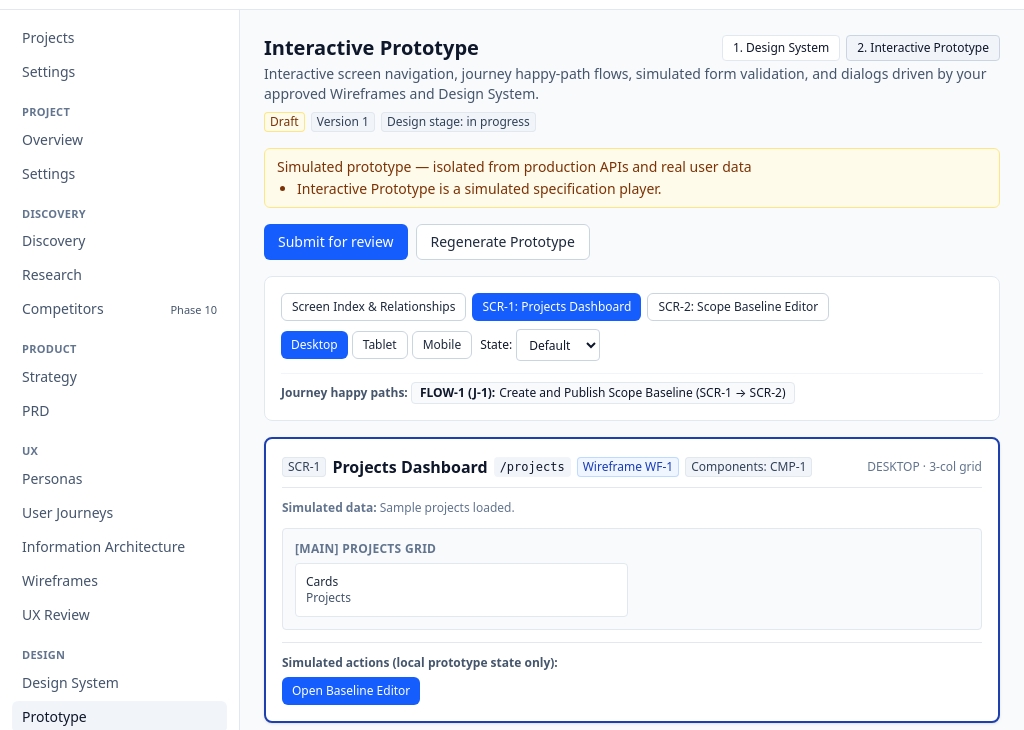
Test: Phase 12 Design System & Interactive Prototype › renders interactive prototype screen navigation, form validation, simulated dialogs, and screen index
Expected: the element with test id "proto-screen-SCR-1" is shown, [264,437,1000,723]
# Navigate from SCR-1 to SCR-2 via interactive trigger button
Click the button "Open Baseline Editor" at (351, 691), box [282,677,420,705]
(page scrolled)
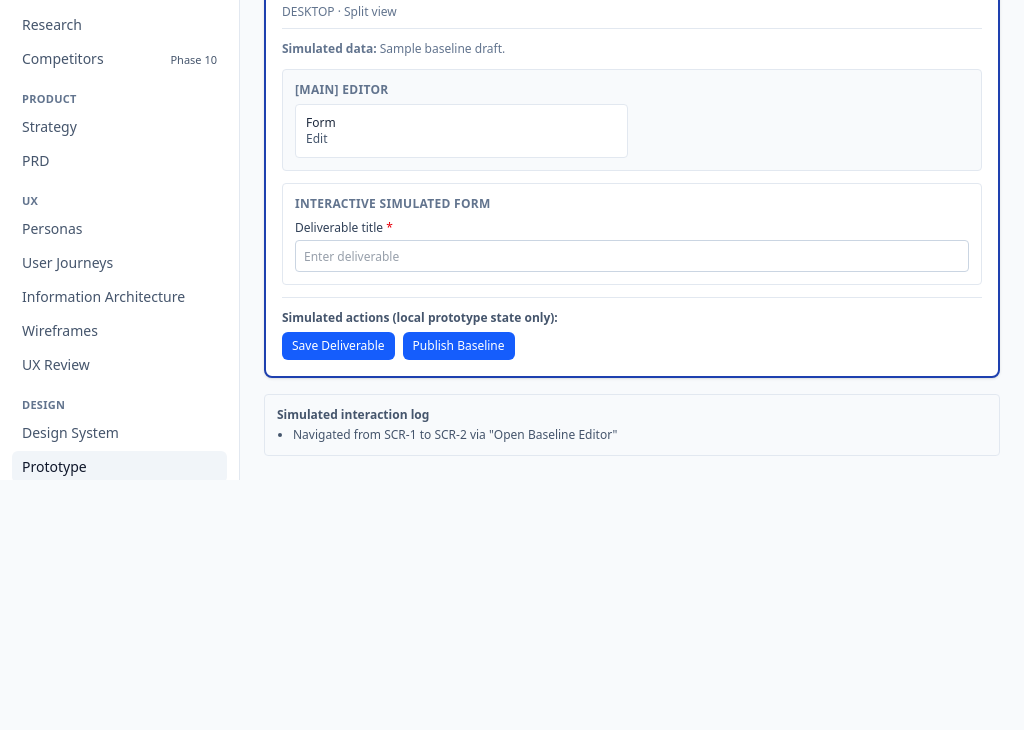
# Submitting empty required form field shows inline validation error
Click the button "Save Deliverable" at (338, 346), box [282,332,395,360]
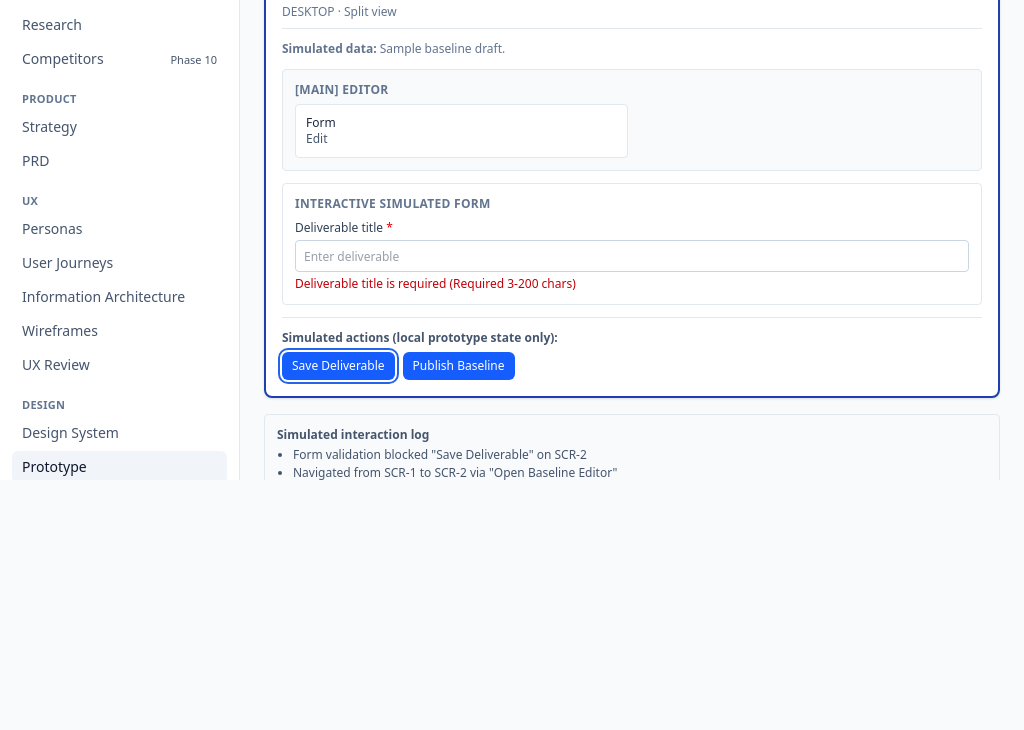
Expected: the message shows "Deliverable title is required", [295,275,576,292]
# Typing a value and submitting transitions to simulated success state
Type "Homepage design" into the field labelled "Deliverable title *" at (632, 256), box [295,240,969,272]
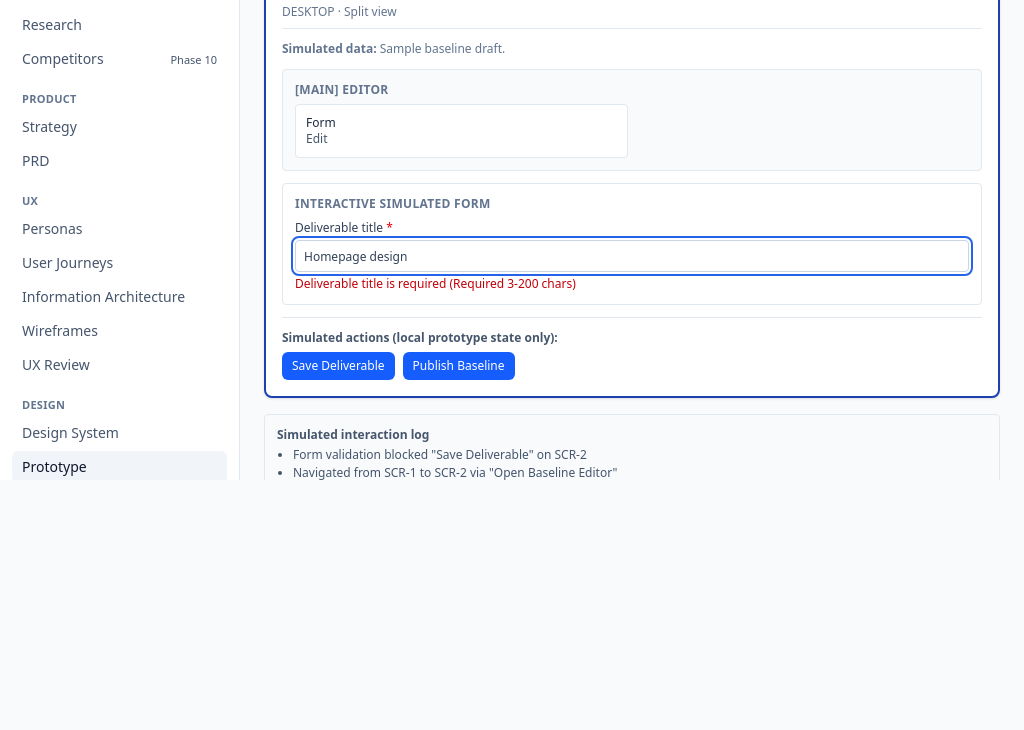
Click the button "Save Deliverable" at (338, 366), box [282,352,395,380]
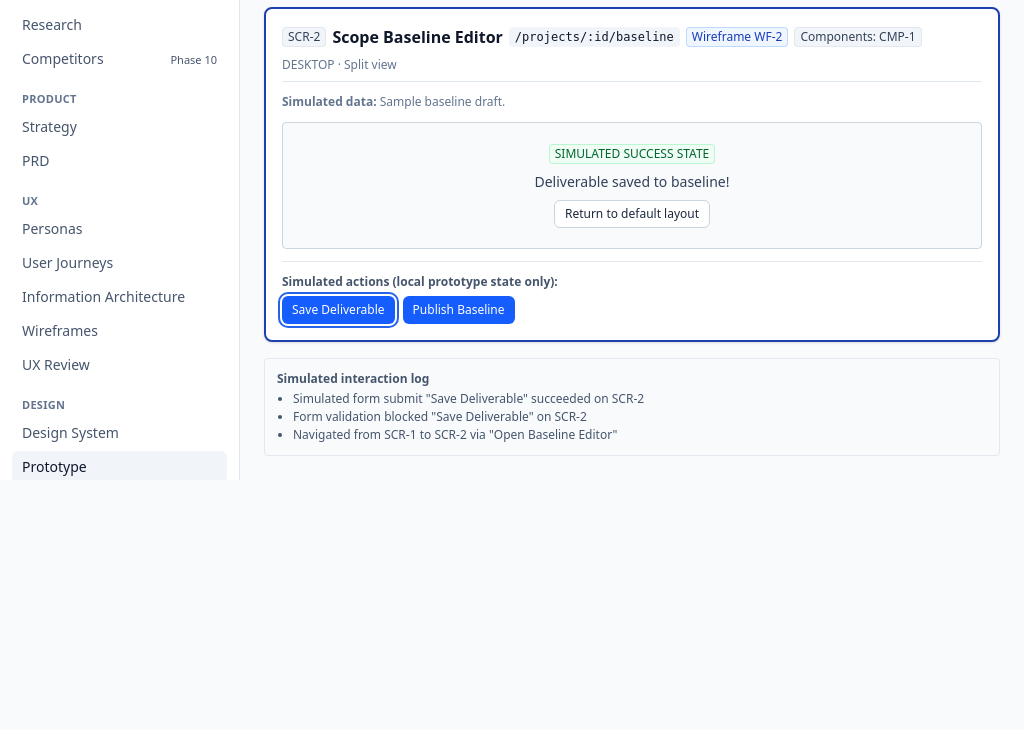
Expected: the element with test id "proto-state-view" shows "Deliverable saved to baseline!", [534,172,730,191]
# Return to default layout and open simulated confirmation dialog
Click the button "Return to default layout" at (632, 214), box [554,200,710,228]
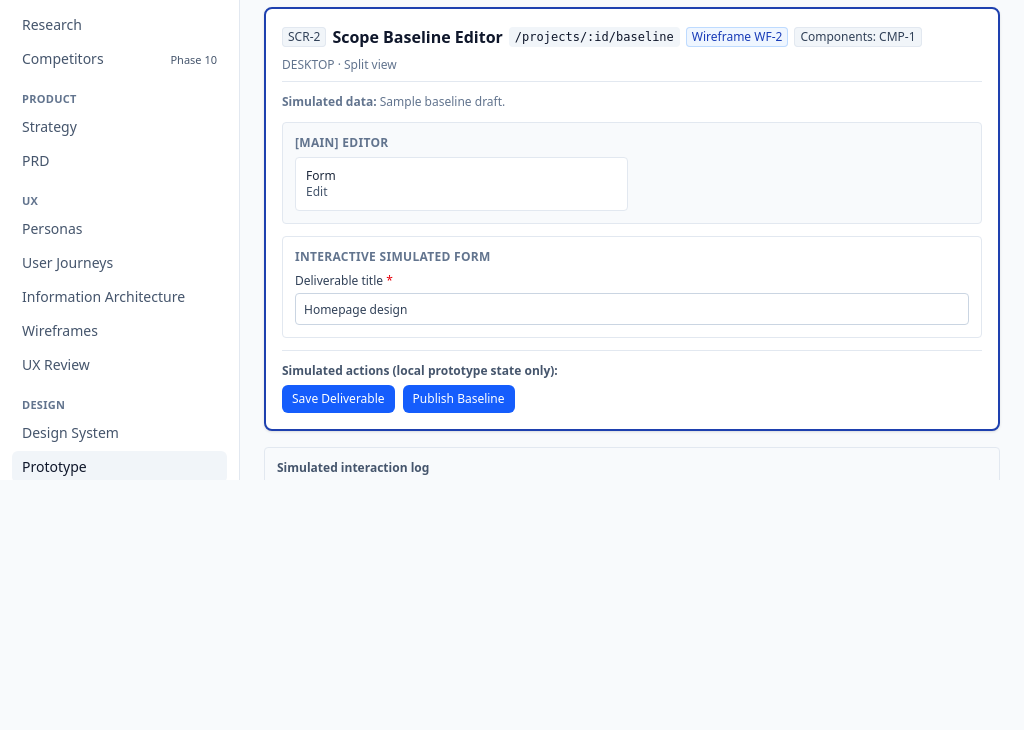
Click the button "Publish Baseline" at (459, 399), box [403,385,515,413]
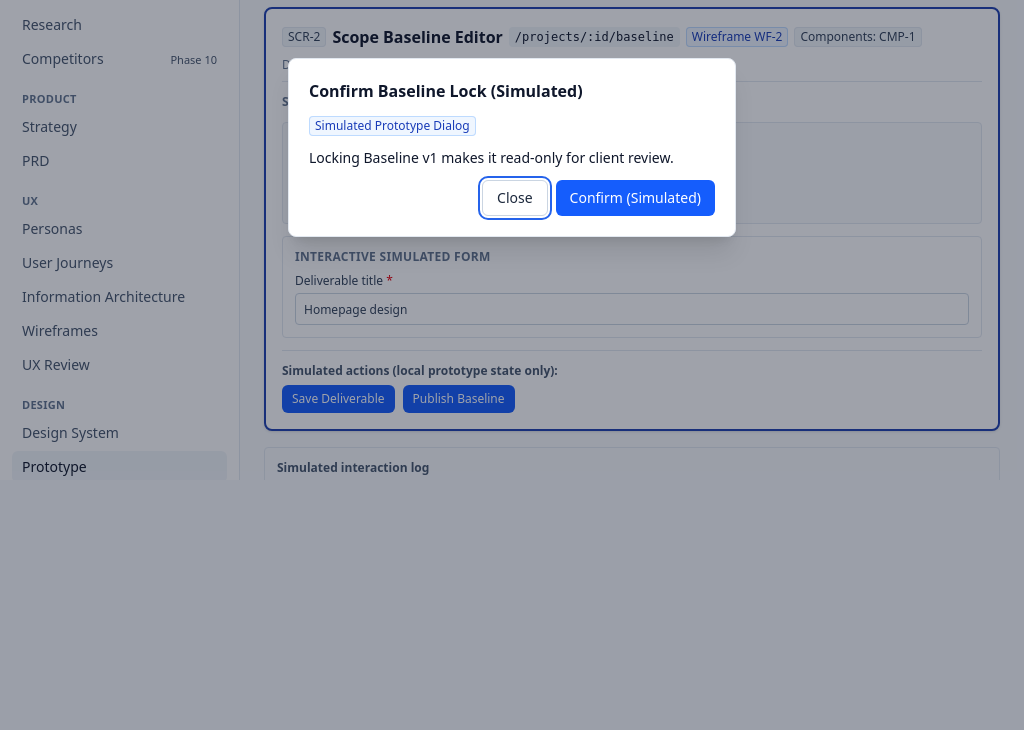
Expected: the dialog "Confirm Baseline Lock" is shown, [288,58,736,237]
